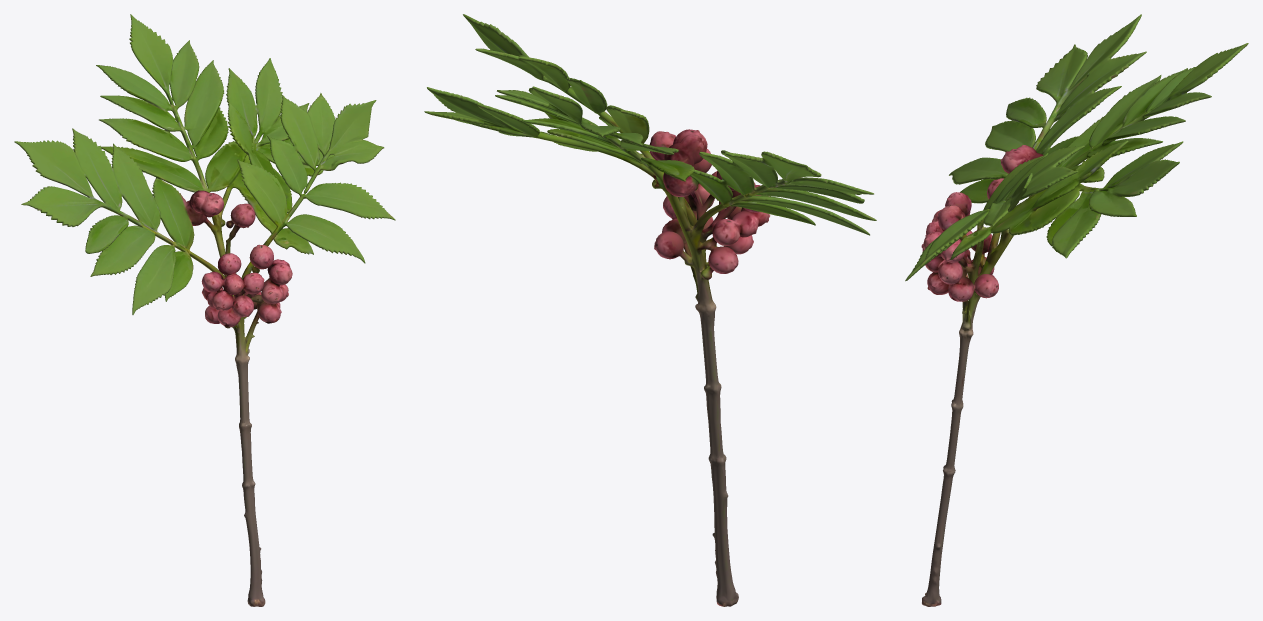
The picture shows the model from 3 angles, left to right: view 1: azimuth 30°, elevation 25°; view 2: azimuth 150°, elevation 25°; view 3: azimuth 270°, elevation 25°; orthographic projection. The views are drawn at different scales.
Parts seen in each view (by area): view 1: node_0; view 2: node_0; view 3: node_0.
Part boxes in pixels (bbox=[...]): node_0: bbox=[14, 14, 395, 606]; node_0: bbox=[424, 14, 876, 606]; node_0: bbox=[905, 14, 1248, 606].
Size of the model in its own units: 0.7506 by 1.05 by 0.5766.
1 material, 1 textured.
